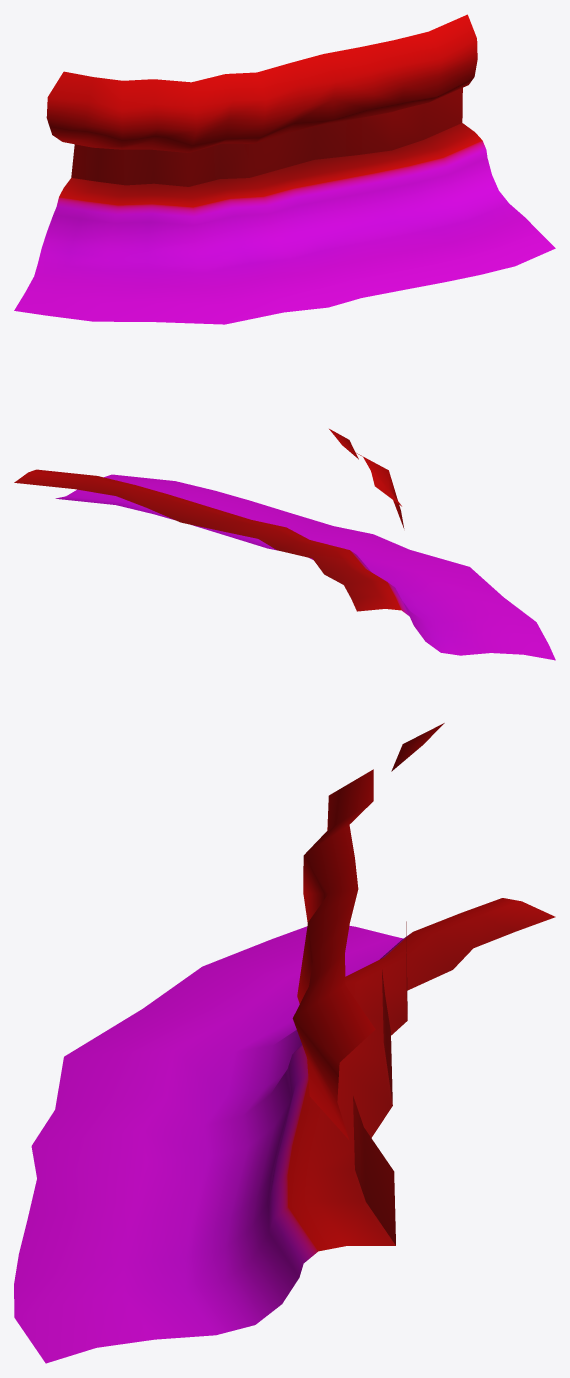
Rendered from Ending.glb.
The picture shows the model from 3 angles, top to bottom: view 1: azimuth 30°, elevation 25°; view 2: azimuth 150°, elevation 25°; view 3: azimuth 270°, elevation 25°; orthographic projection. The views are drawn at different scales.
Parts seen in each view (by area): view 1: Plane; view 2: Plane; view 3: Plane.
Part boxes in pixels (x1,y1,x2,y2): Plane: [14, 14, 555, 324]; Plane: [14, 429, 555, 660]; Plane: [14, 723, 555, 1363].
Size of the model in its own units: 59.6 by 20.83 by 30.85.
